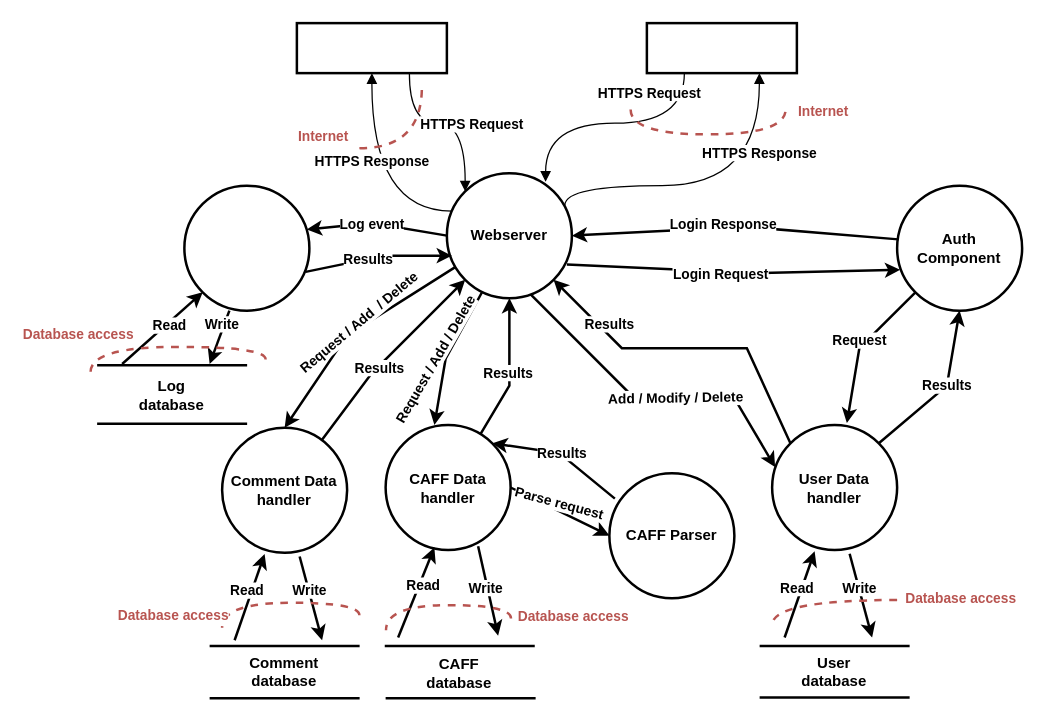
Some shapes in this 1045 by 721 pixel diagram are drawn without their labels. The box of each missing label's shape, as (x1, y1, x2, y2) in pixels:
Administrator (Android App): (295, 21, 448, 74)
Log Data handler: (182, 184, 310, 311)
User (Android App): (645, 21, 798, 74)
